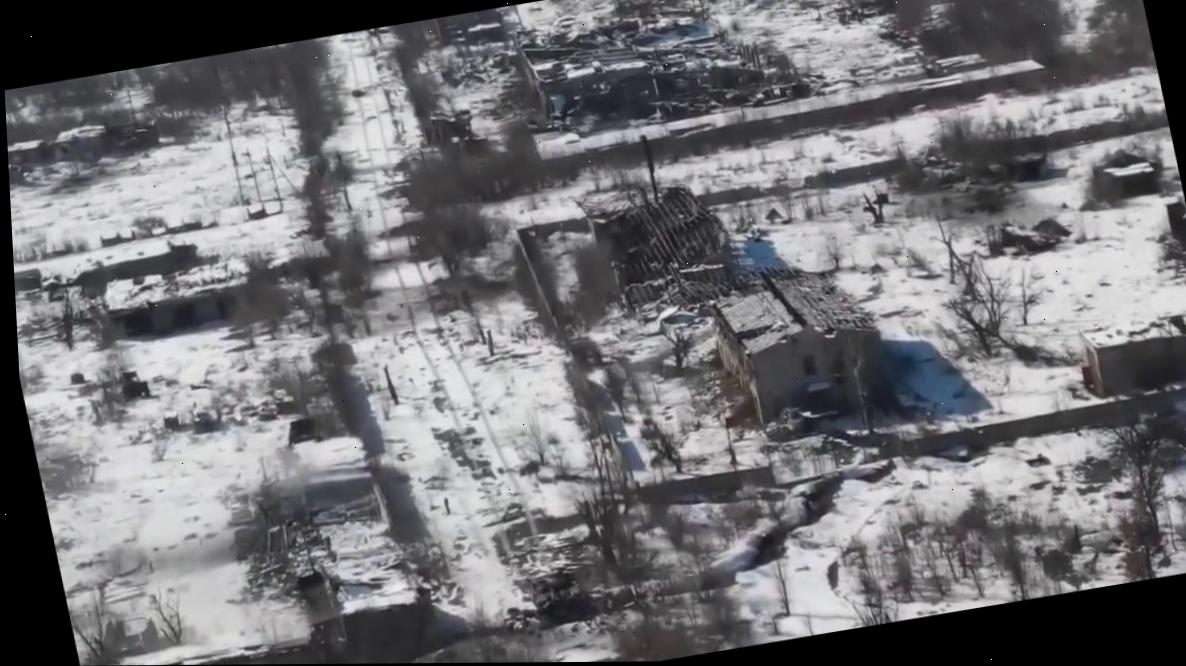tank: (527, 565, 587, 615)
